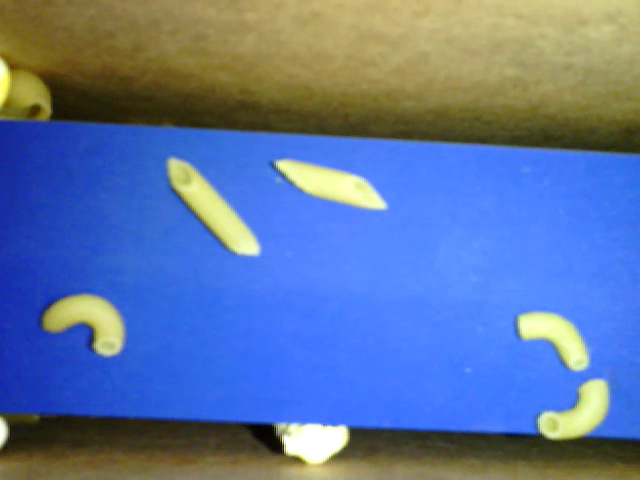elbow: (43, 291, 126, 358), (534, 375, 610, 442), (516, 309, 592, 372)
penne: (167, 157, 262, 256), (274, 159, 388, 212)
shell: (3, 64, 55, 126)
